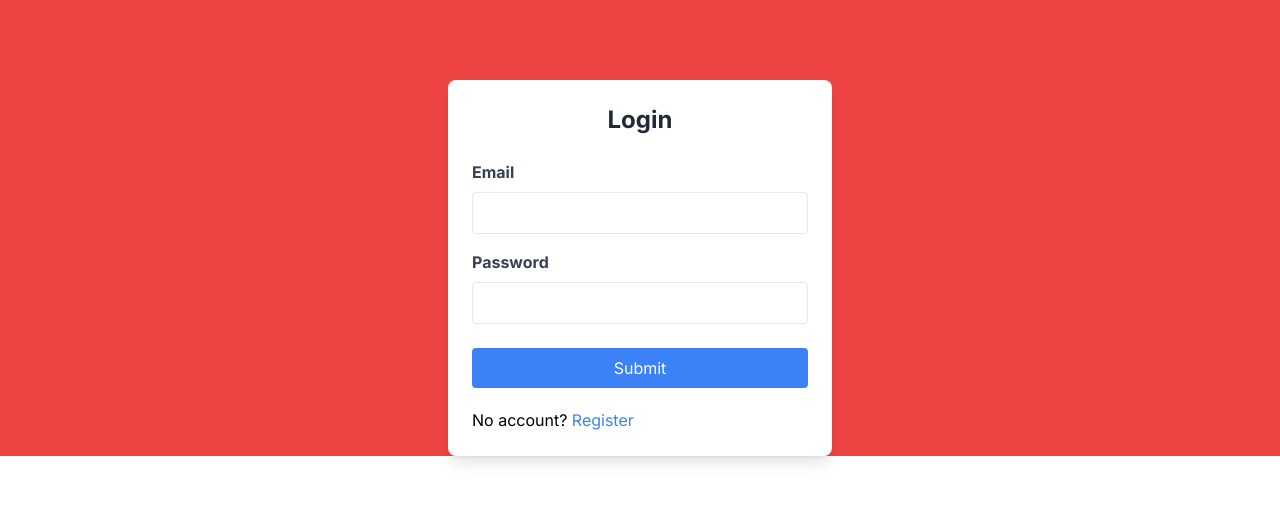
form-testing › should show password error if password is less than 5 characters
Expected: the text "password must be at least 5 characters" is not shown
type valid email
Type "test@test.com" into the field labelled "Email" at (640, 213), box [472,192,808,234]
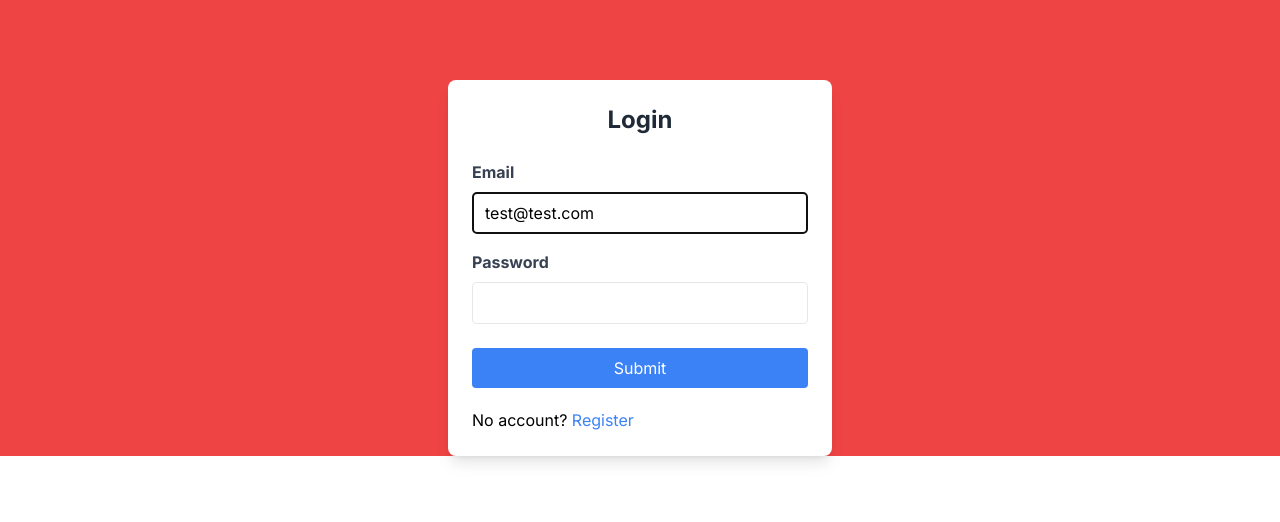
type password less than 5 characters
Type "abcd" into the password field labelled "Password" at (640, 303), box [472,282,808,324]
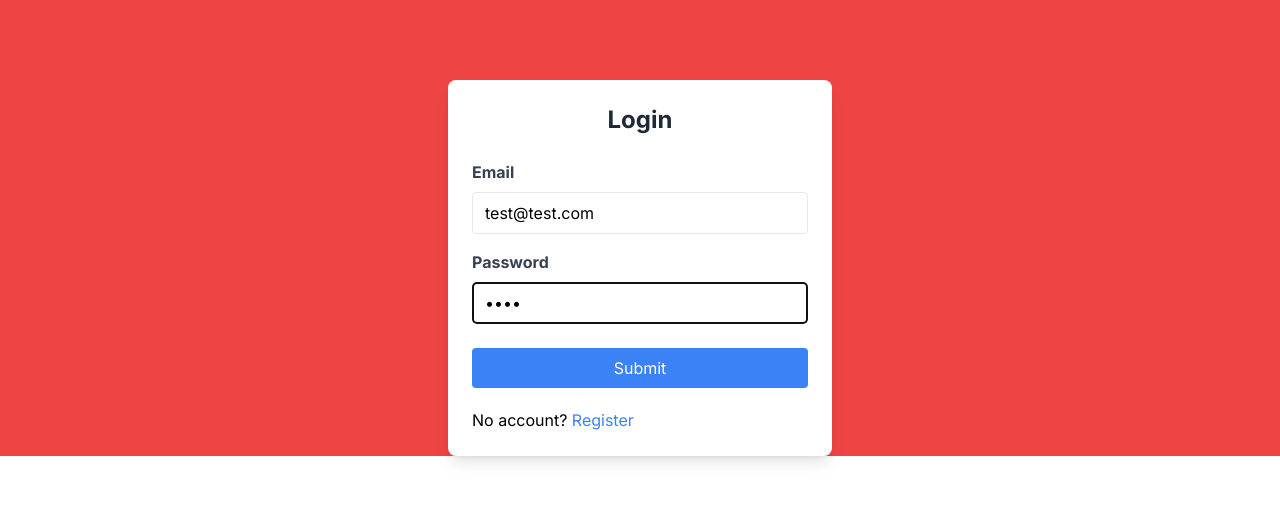
Click the button "Submit" at (640, 368), box [472,348,808,388]
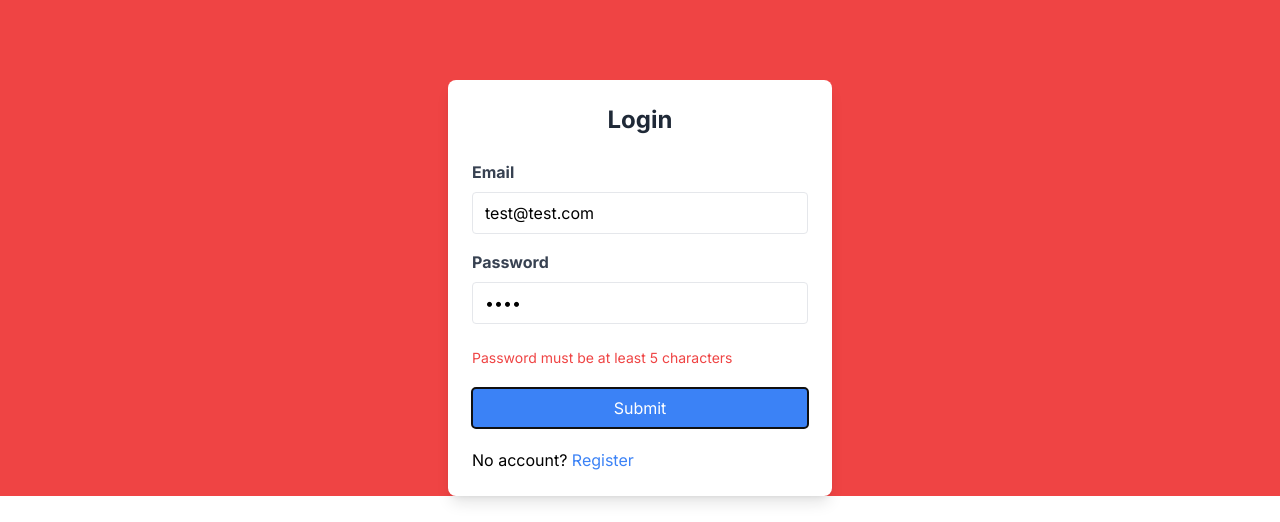
Expected: the text "Password must be at least 5 characters" is shown, [472,349,732,366]
